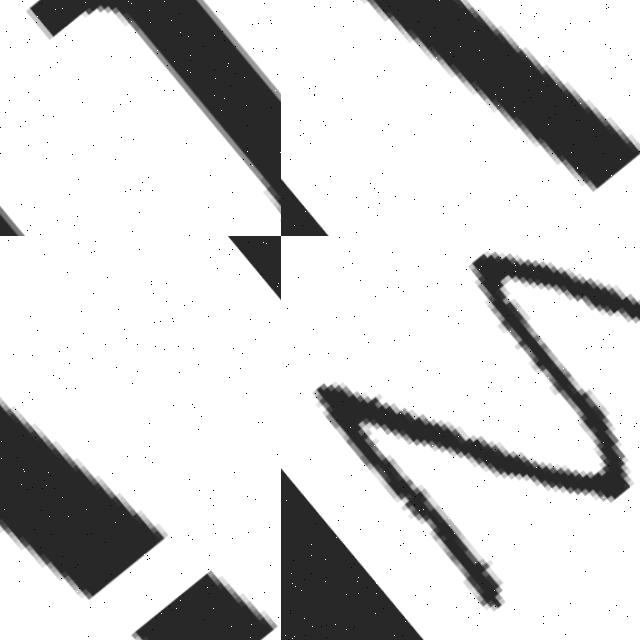I: (0, 236, 280, 640)
K: (281, 0, 640, 236)
M: (281, 236, 640, 640)
N: (0, 0, 281, 236)
